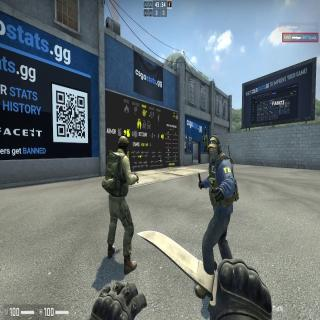CT-Body: (206, 136, 234, 268), (108, 135, 131, 273)
CT-Head: (207, 136, 221, 164), (118, 134, 128, 158)
